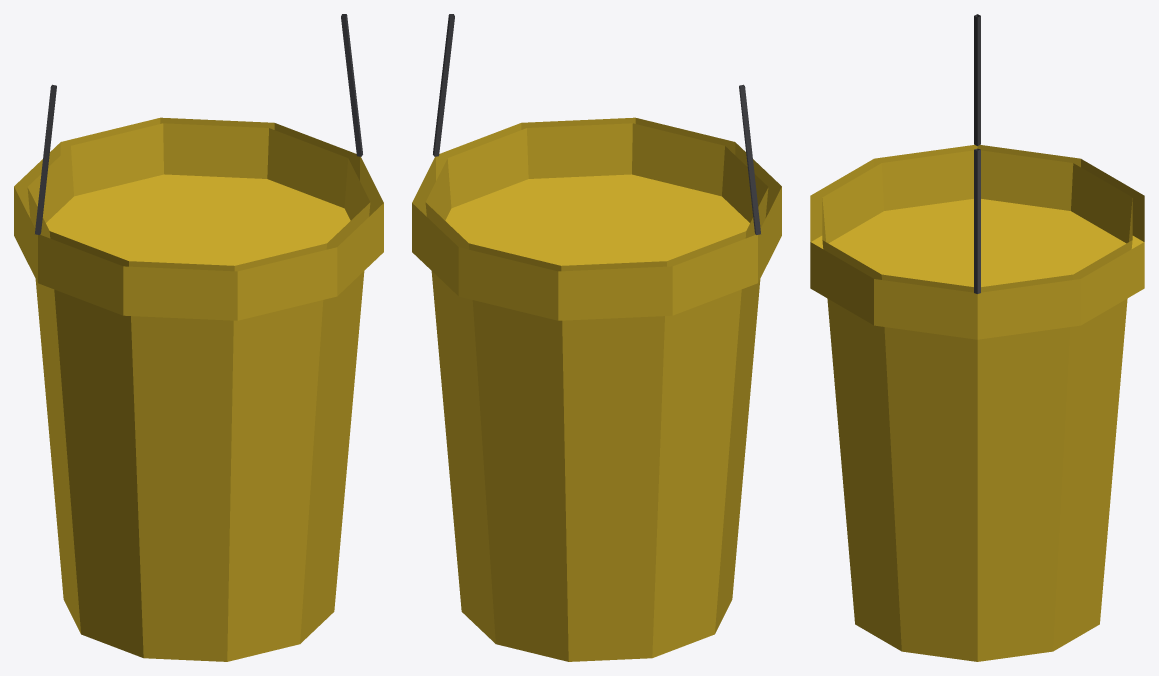
Rendered from rubble_chute.gltf.
3 views of the same model, side by side, from view 1: azimuth 30°, elevation 25°; view 2: azimuth 150°, elevation 25°; view 3: azimuth 270°, elevation 25° (orthographic). The views are drawn at different scales.
Visible parts, largest first — view 1: Mesh; view 2: Mesh; view 3: Mesh.
Boxes of the visible parts, box(x1,y1,x2,y2) form: Mesh: box(14, 14, 383, 661); Mesh: box(412, 14, 781, 661); Mesh: box(810, 14, 1144, 661).
Size of what is drawn, in the model's own units: 0.8359 by 1.35 by 0.7799.
